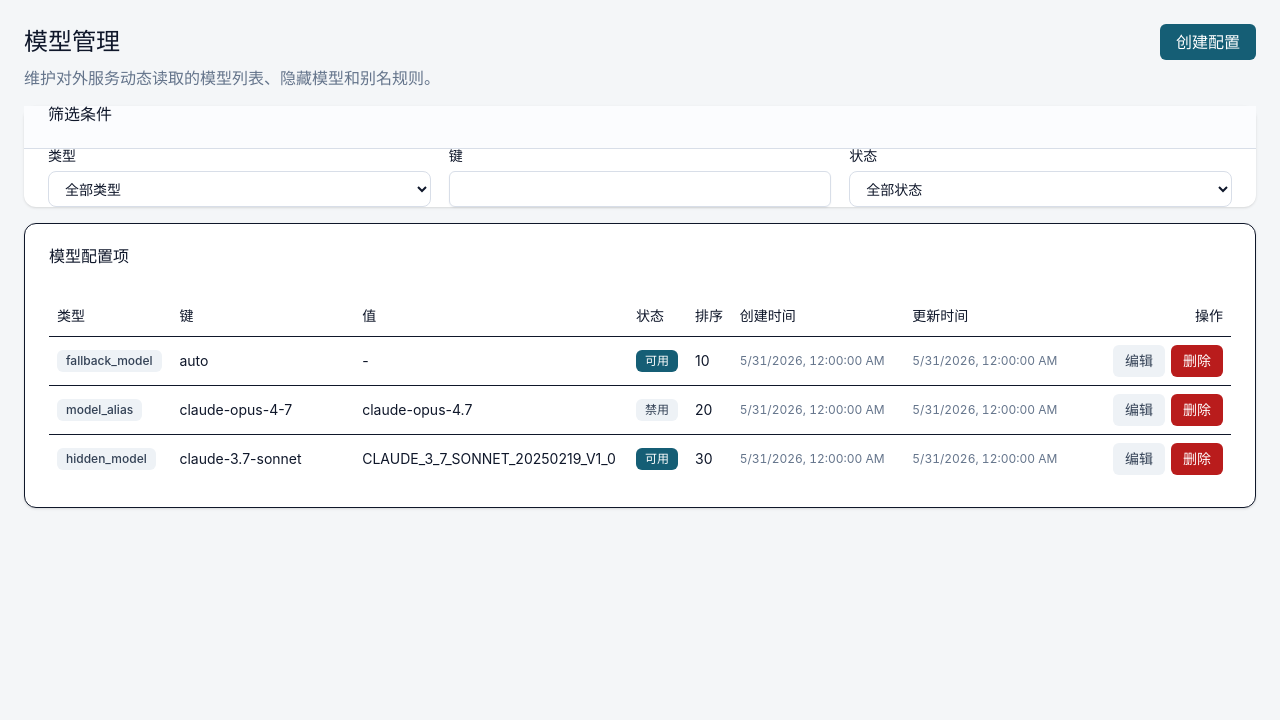
it: ModelConfigPage › filters model config items by type key and status
The width and height of the screenshot is (1280, 720).
Expected: the row "auto" is shown, [49,336,1231,385]
Expected: the row "claude-opus-4-7" is shown, [49,385,1231,434]
Select "model_alias" in the dropdown labelled "类型" at (239,189), box [48,171,431,207]
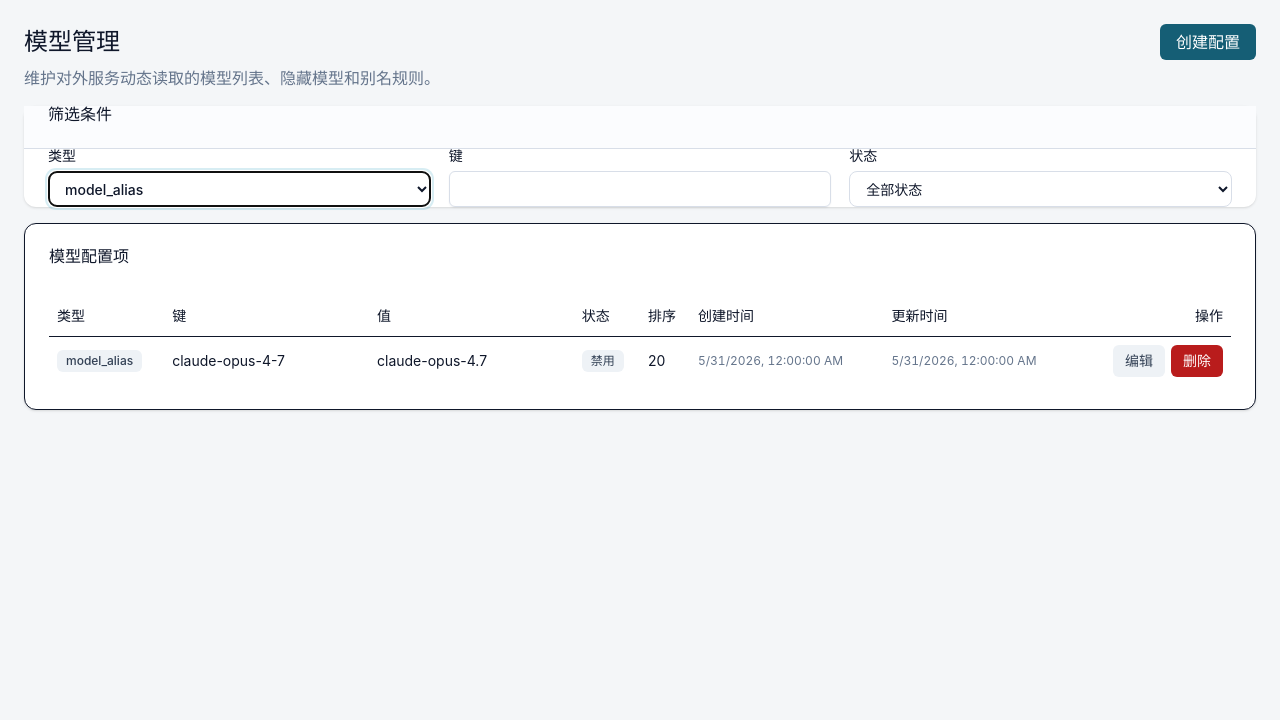
Expected: the row "claude-opus-4-7" is shown, [49,336,1231,384]
Expected: the cell "auto" is gone
Expected: the cell "claude-3.7-sonnet" is gone
Select "全部类型" in the dropdown labelled "类型" at (239,189), box [48,171,431,207]
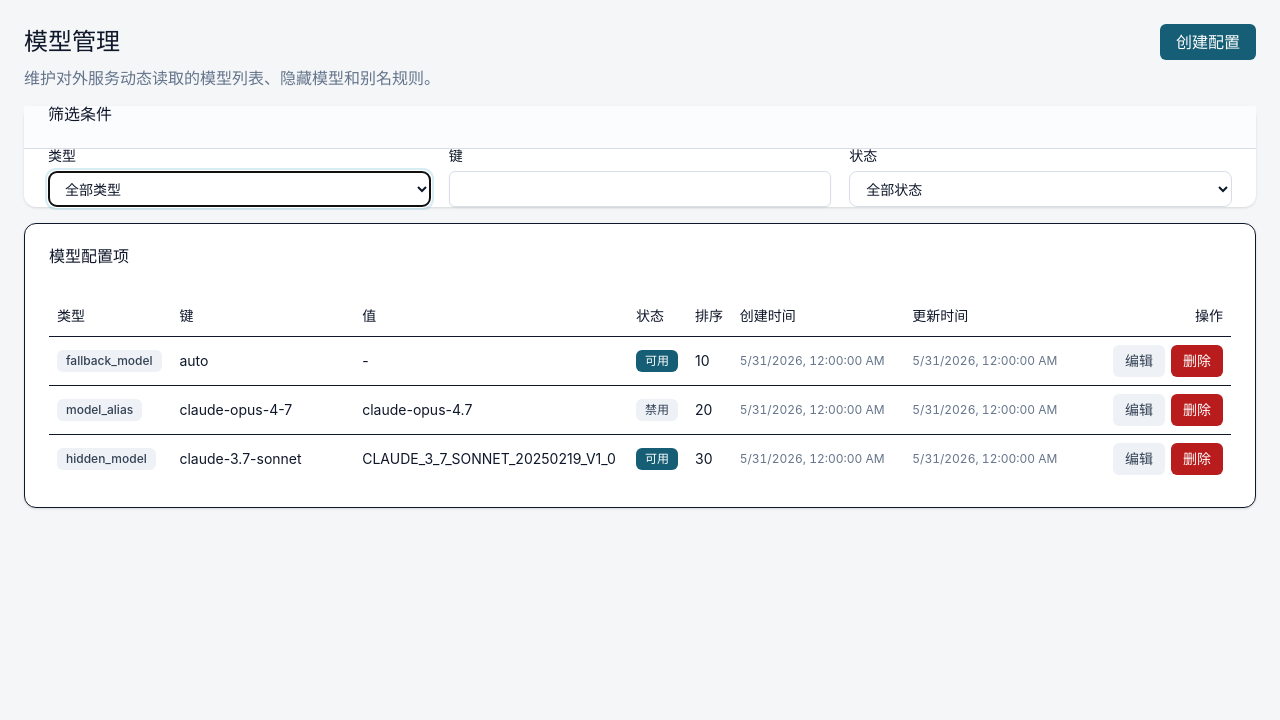
Type "SONNET" into the field labelled "键" at (640,189), box [449,171,831,207]
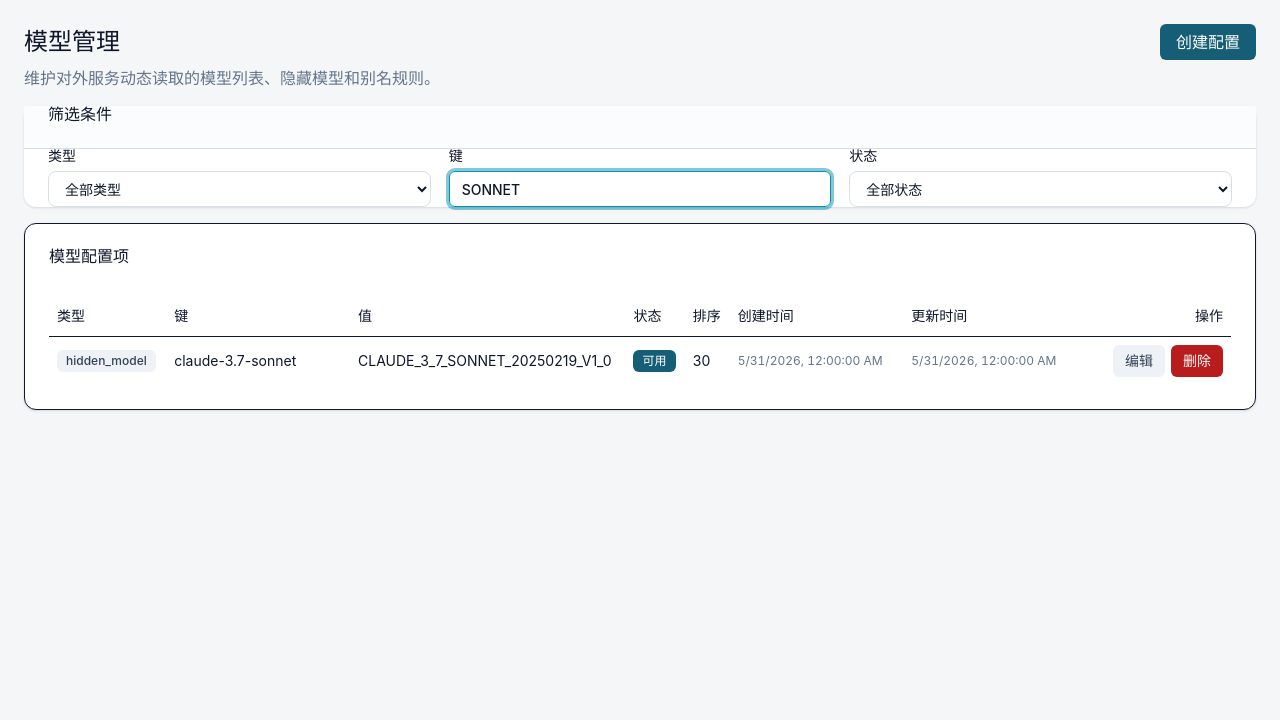
Expected: the row "claude-3.7-sonnet" is shown, [49,336,1231,384]
Expected: the cell "auto" is gone
Expected: the cell "claude-opus-4-7" is gone
Clear the field labelled "键" at (640,189), box [449,171,831,207]
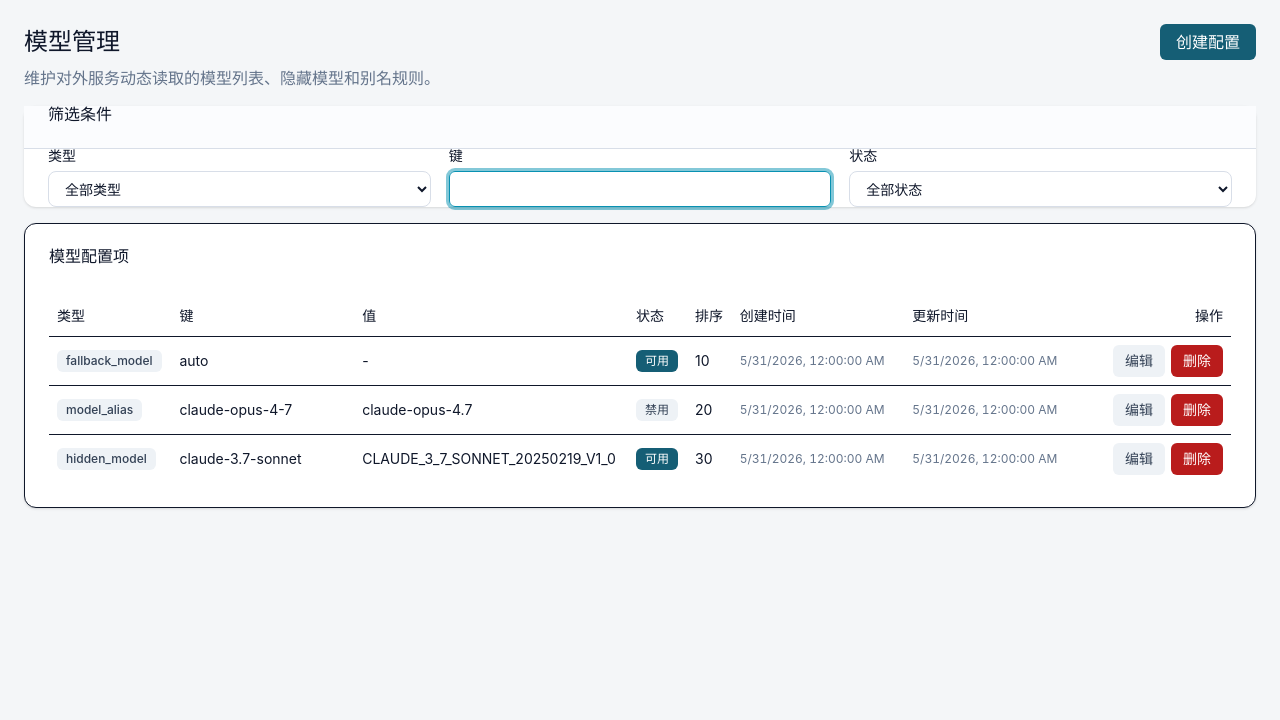
Select "禁用" in the dropdown labelled "状态" at (1041,189), box [849,171,1232,207]
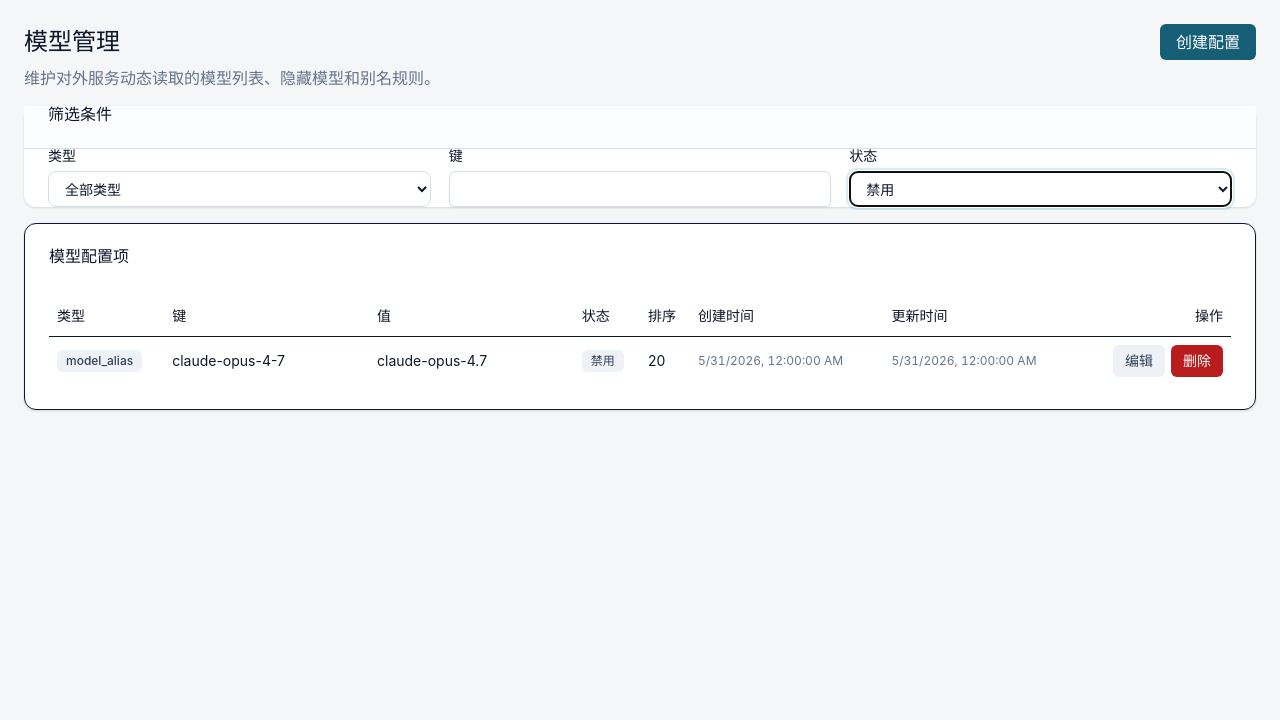
Expected: the row "claude-opus-4-7" is shown, [49,336,1231,384]
Expected: the cell "auto" is gone
Expected: the cell "claude-3.7-sonnet" is gone
